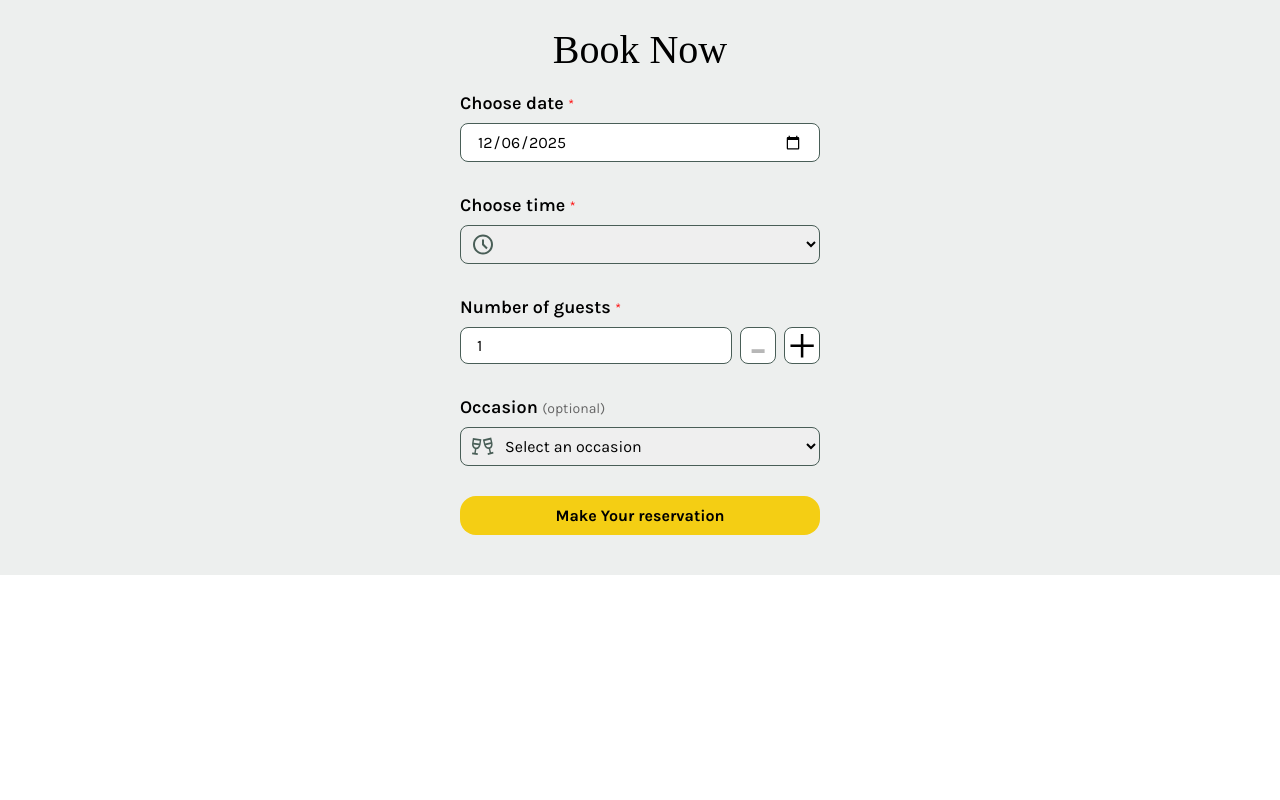
Error message validation › Shows error message when number of guests is greater than 10
# Set guests to 11 (invalid) and blur to mark field as visited
Type "11" into the number field labelled "Number of guests". click: [596, 346]
box: top-left (460, 327), bottom-right (732, 364)
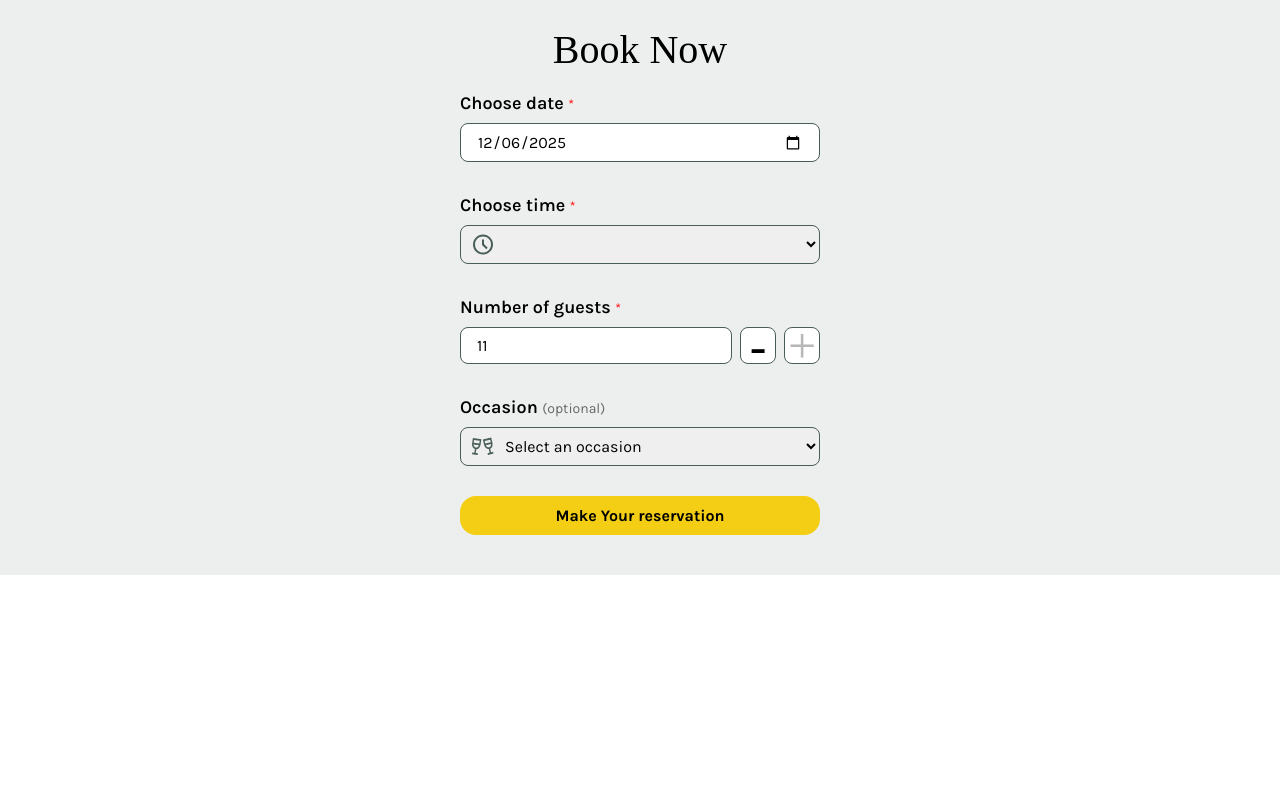
Leave the number field labelled "Number of guests", box top-left (460, 327), bottom-right (732, 364)
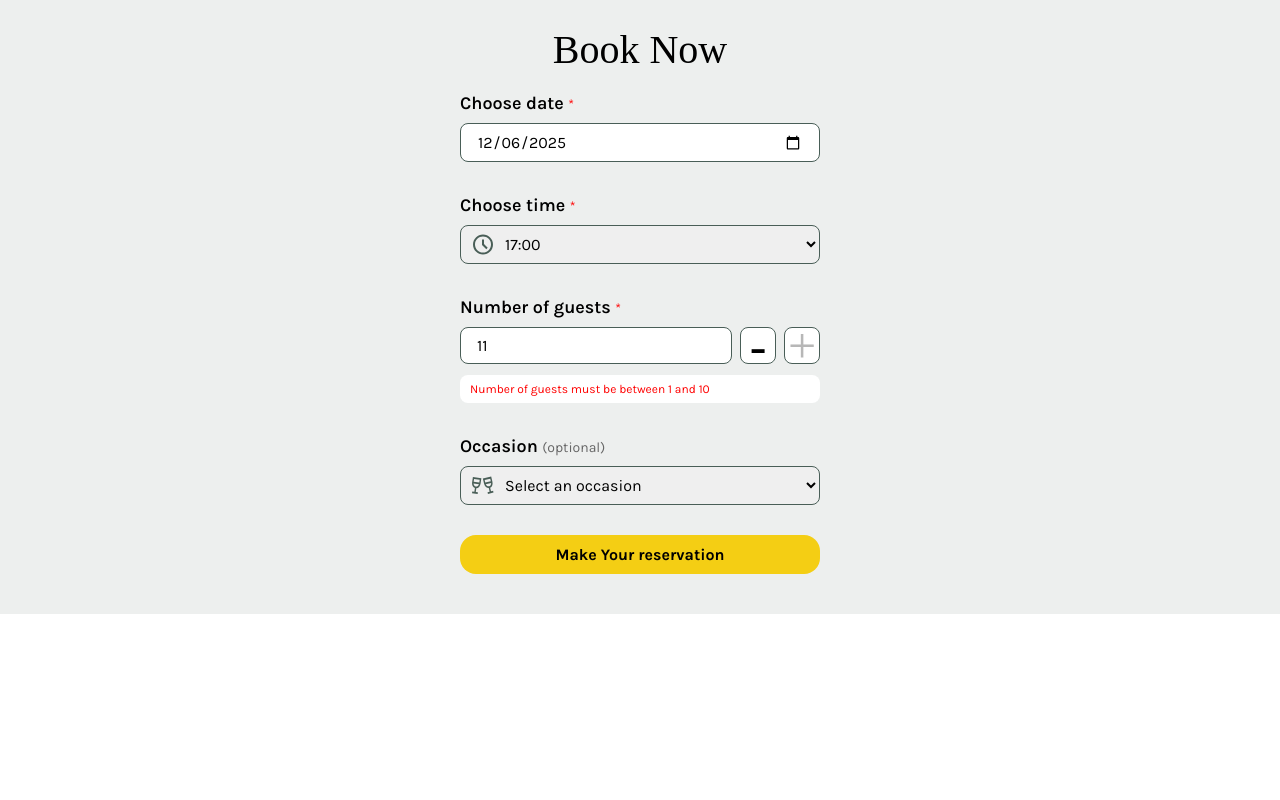
Expected: the text "Number of guests must be between 1 and 10" is shown, top-left (460, 375), bottom-right (820, 403)
